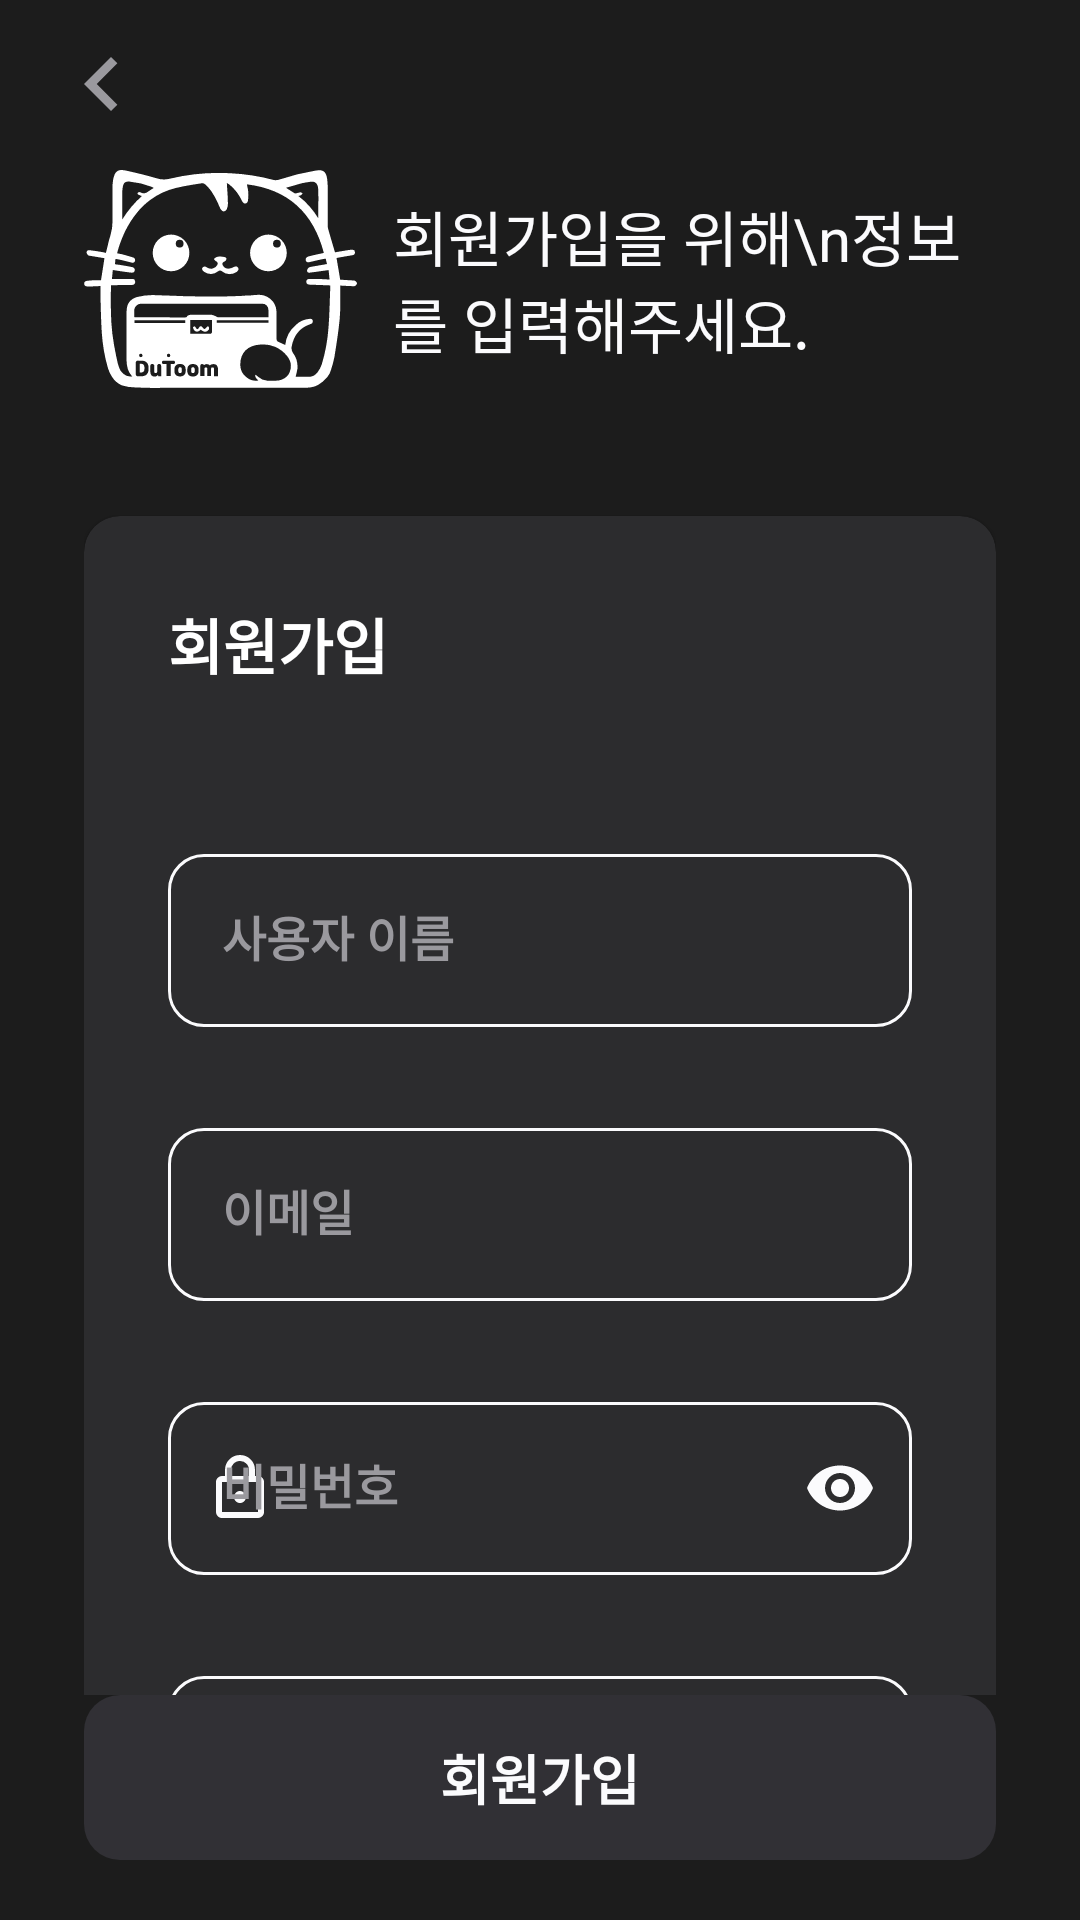

Where to tap for icons on this 1080 x 1920 app screen, as (x=x, y=y):
back: (x=100, y=84)
